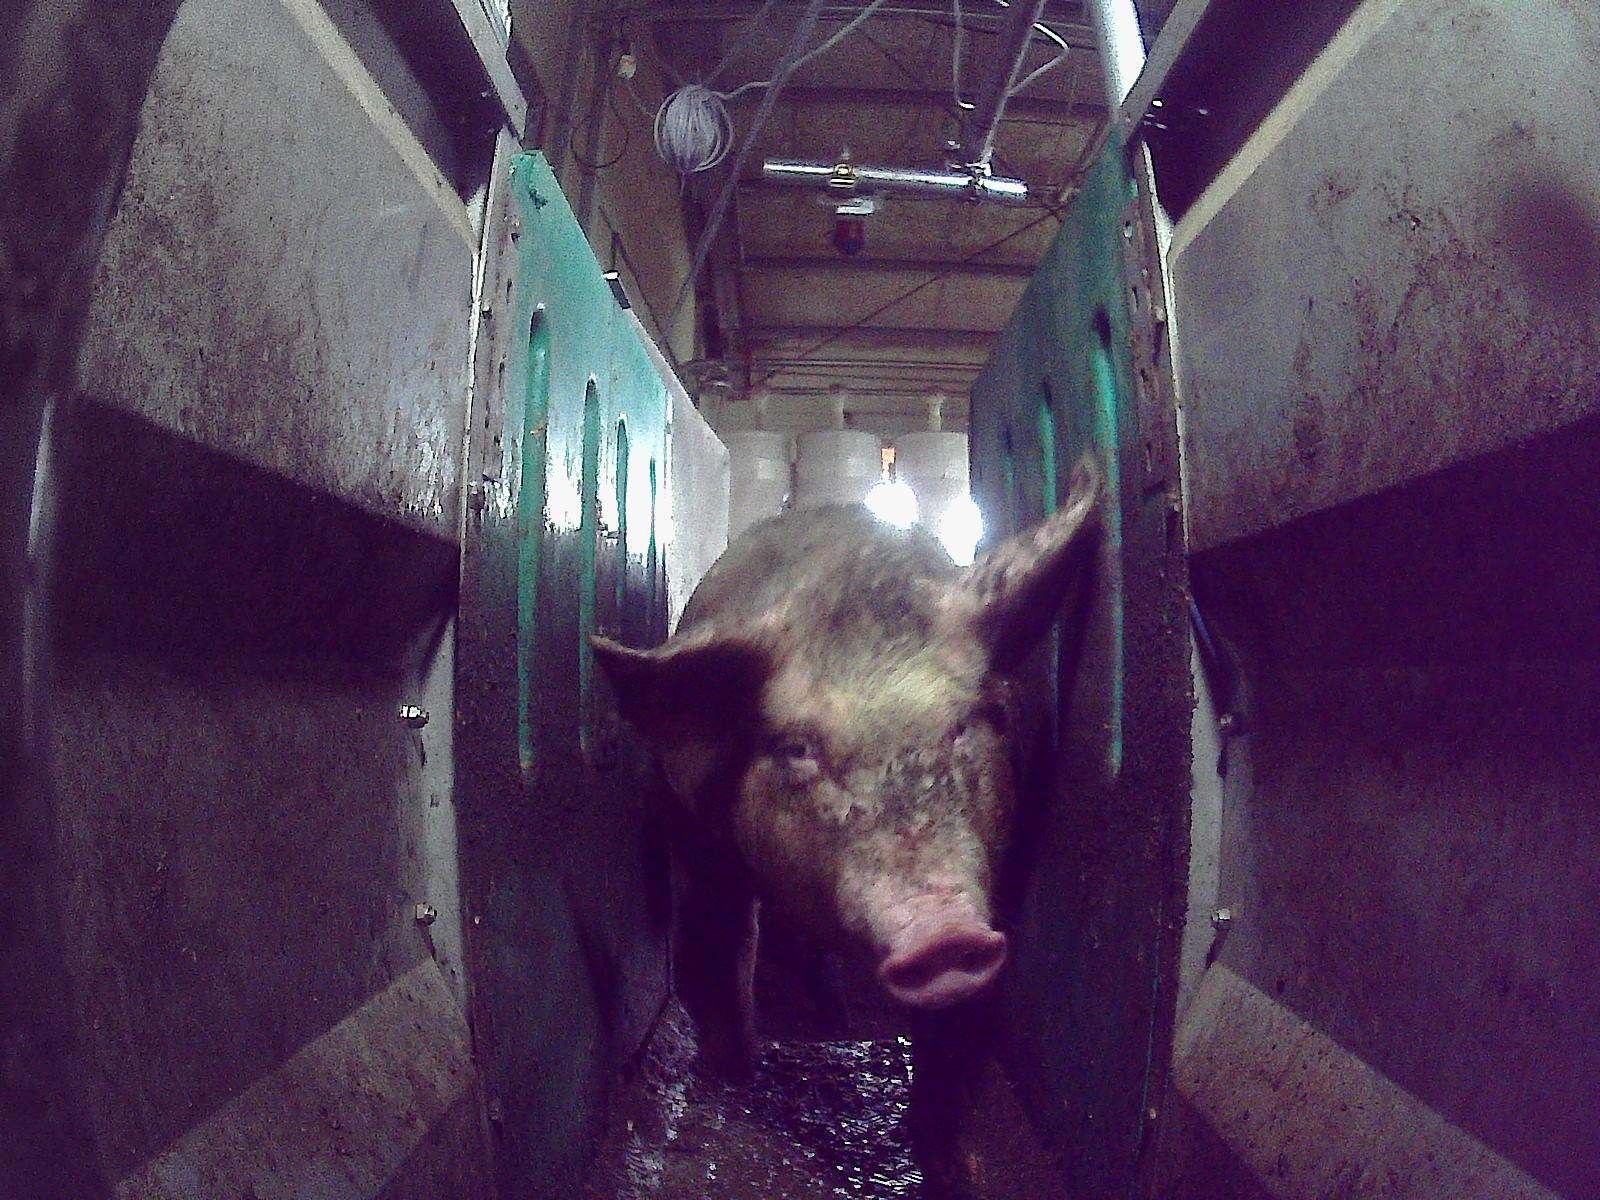Face: (715, 576, 1017, 1003)
